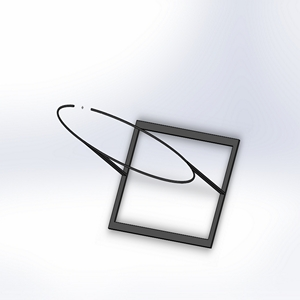circle: (55, 102, 242, 251)
